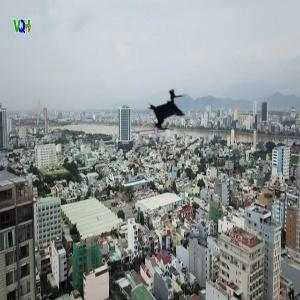drone: (142, 87, 198, 143)
